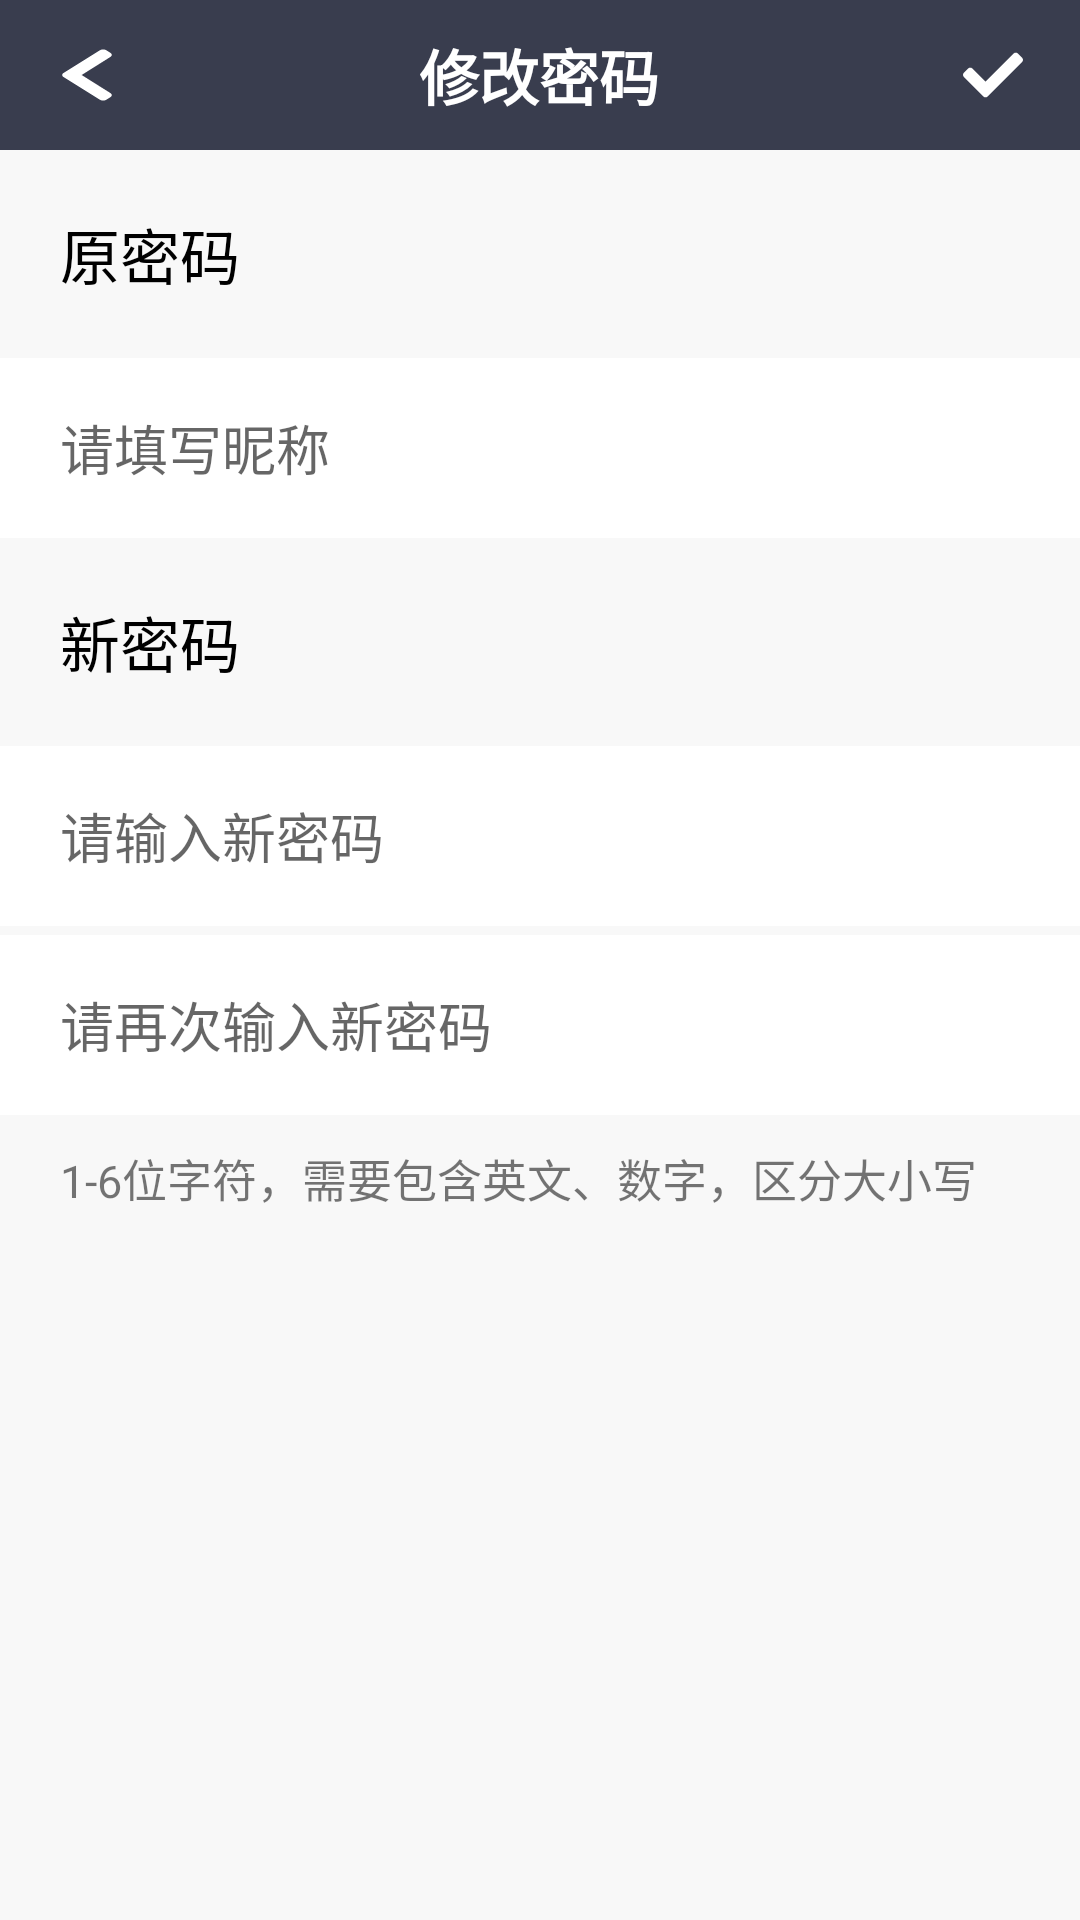

Icons on this 1080*1920 Android screen, each with the point to tap as (x,y):
back: (87,75)
check: (993,75)
